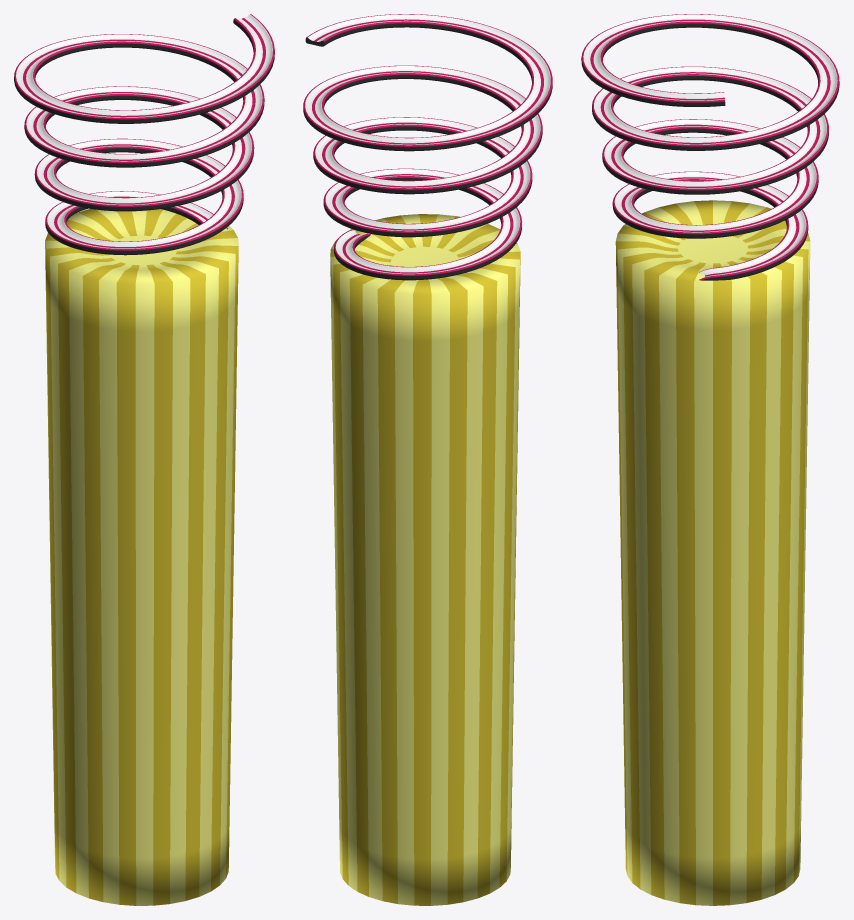
The model's file is intro_track.fbx.
The picture shows the model from 3 angles, left to right: view 1: azimuth 30°, elevation 25°; view 2: azimuth 150°, elevation 25°; view 3: azimuth 270°, elevation 25°; orthographic projection.
Visible parts, largest first — view 1: Socle, SpiralUp; view 2: Socle, SpiralUp; view 3: Socle, SpiralUp.
Part boxes in pixels (x1,y1,x2,y2): Socle: [45, 208, 238, 905]; SpiralUp: [14, 14, 274, 255]; Socle: [330, 214, 520, 905]; SpiralUp: [303, 14, 552, 280]; Socle: [615, 200, 810, 905]; SpiralUp: [581, 14, 839, 280].
Size of the model in its own units: 484 by 1675 by 475.
